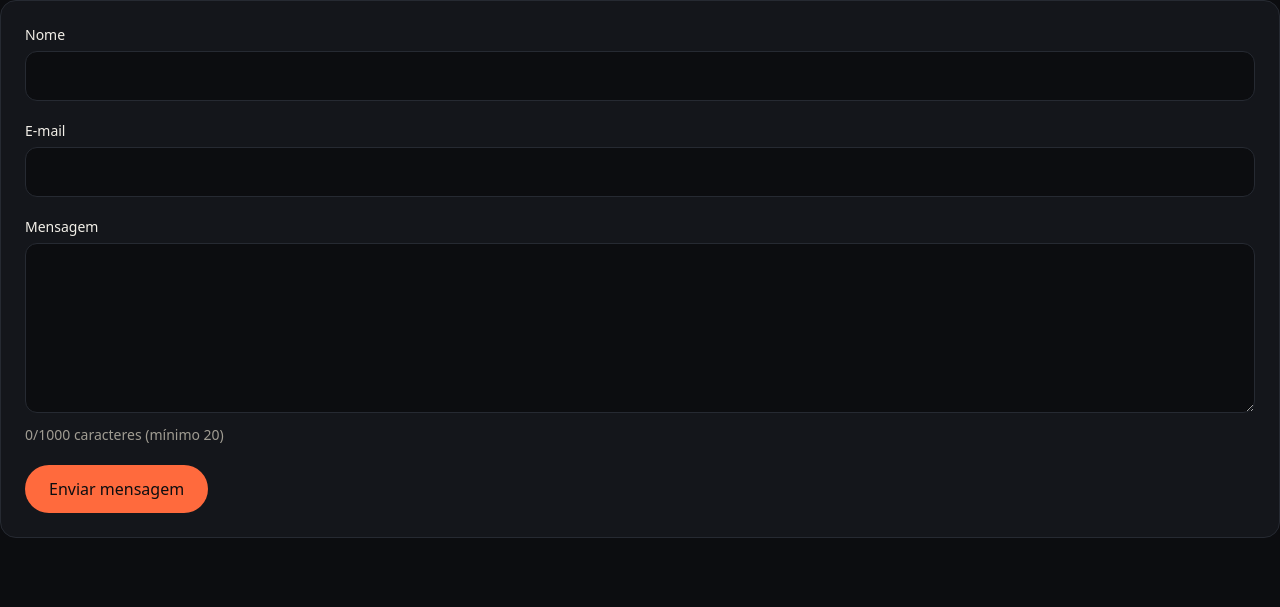
Test: ContactForm › mostra uma mensagem específica em cada campo vazio e não envia
Click the button "Enviar mensagem" at (117, 489), box x1=25 y1=465 x2=208 y2=513
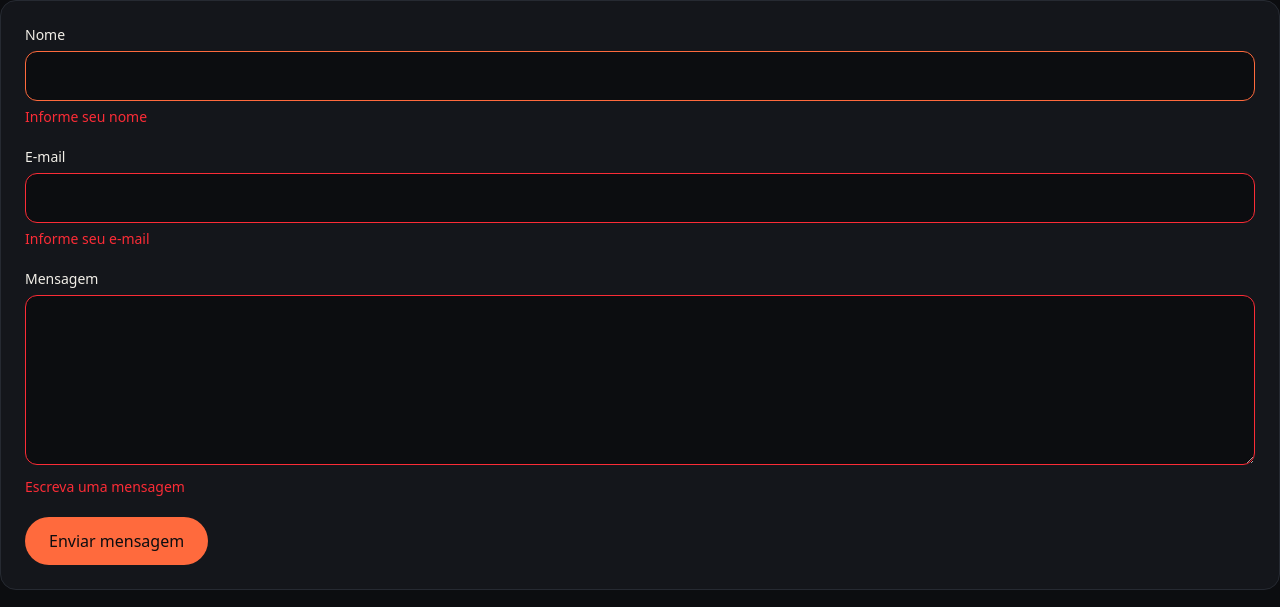
Now the text "Informe seu nome" is shown, box x1=25 y1=107 x2=147 y2=126
Now the text "Informe seu e-mail" is shown, box x1=25 y1=229 x2=150 y2=248
Now the text "Escreva uma mensagem" is shown, box x1=25 y1=477 x2=185 y2=496
